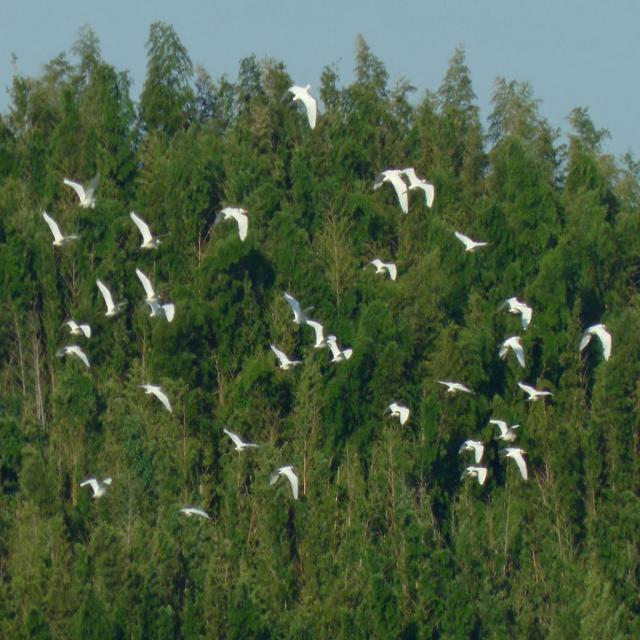bird: (371, 173, 436, 217), (136, 268, 175, 330), (576, 322, 615, 374), (490, 296, 535, 338), (172, 498, 220, 535), (204, 212, 248, 248), (284, 86, 320, 130), (58, 178, 97, 216), (136, 384, 176, 420), (54, 348, 97, 379), (280, 291, 315, 329), (220, 424, 264, 454), (41, 214, 79, 248), (130, 212, 162, 252), (355, 258, 399, 285), (267, 343, 302, 376), (75, 476, 111, 508), (449, 229, 495, 254), (266, 464, 296, 502), (380, 402, 414, 435), (56, 316, 96, 344), (433, 375, 476, 401), (489, 411, 522, 442), (499, 338, 529, 366), (504, 443, 527, 477), (517, 382, 549, 403), (326, 339, 350, 366), (461, 433, 483, 462), (302, 318, 328, 342), (461, 470, 492, 484)
